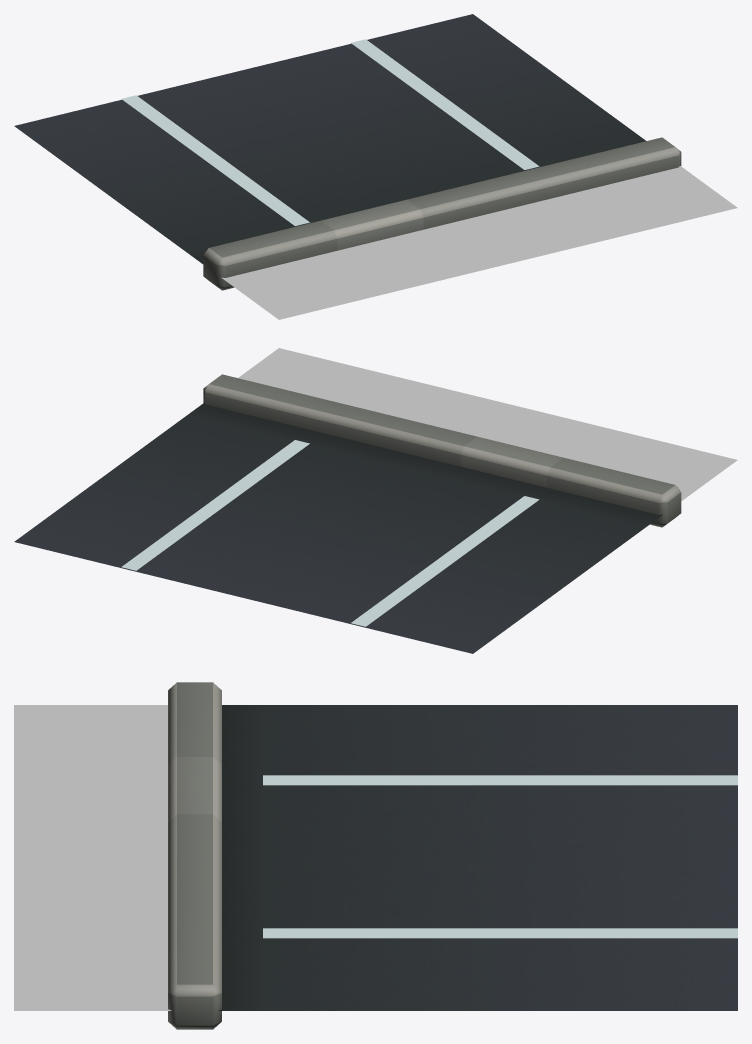
The model's file is parking_lot_straight_x4.fbx.
The picture shows the model from 3 angles, top to bottom: view 1: azimuth 30°, elevation 25°; view 2: azimuth 150°, elevation 25°; view 3: azimuth 270°, elevation 25°; orthographic projection. The views are drawn at different scales.
Visible parts, largest first — view 1: parking_lot_straight_x4, parking_lot_straight_x4_sidewalk; view 2: parking_lot_straight_x4, parking_lot_straight_x4_sidewalk; view 3: parking_lot_straight_x4, parking_lot_straight_x4_sidewalk.
Part boxes in pixels (x1,y1,x2,y2): parking_lot_straight_x4: (14,14,681,290); parking_lot_straight_x4_sidewalk: (221,166,737,319); parking_lot_straight_x4: (14,374,681,653); parking_lot_straight_x4_sidewalk: (238,348,737,500); parking_lot_straight_x4: (168,682,737,1029); parking_lot_straight_x4_sidewalk: (14,705,171,1010).
Size of the model in its own units: 810 by 55 by 800.
